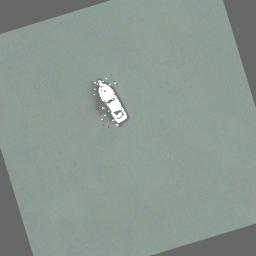boat: (90, 74, 130, 130)
